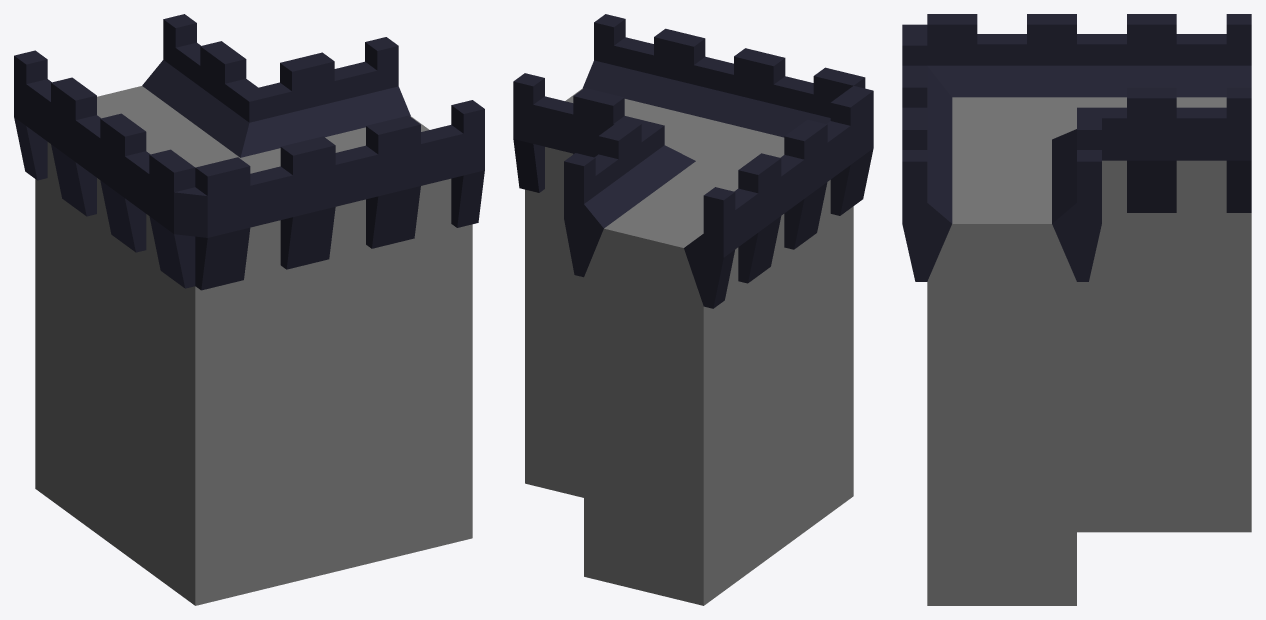
The model's file is Defence Corner.fbx.
3 renders of one model, left to right at view 1: azimuth 30°, elevation 25°; view 2: azimuth 150°, elevation 25°; view 3: azimuth 270°, elevation 25°, orthographic. The views are drawn at different scales.
Parts seen in each view (by area): view 1: Defense Double Corner; view 2: Defense Double Corner; view 3: Defense Double Corner.
Part boxes in pixels (x1,y1,x2,y2): Defense Double Corner: (14, 14, 484, 605); Defense Double Corner: (513, 14, 873, 605); Defense Double Corner: (902, 14, 1251, 605).
Bounding box in the file's own units: 70 × 98.23 × 70.
